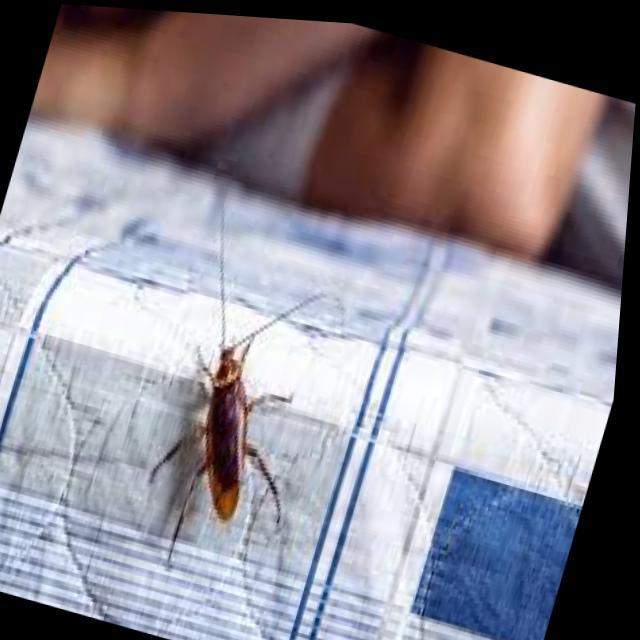Cockroach: (114, 165, 368, 620)
